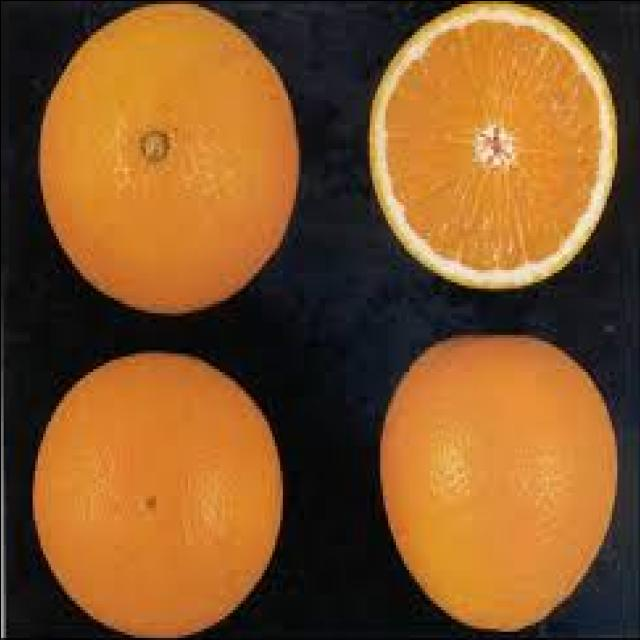orange: (0, 340, 293, 640), (22, 7, 302, 312), (360, 320, 616, 624)
